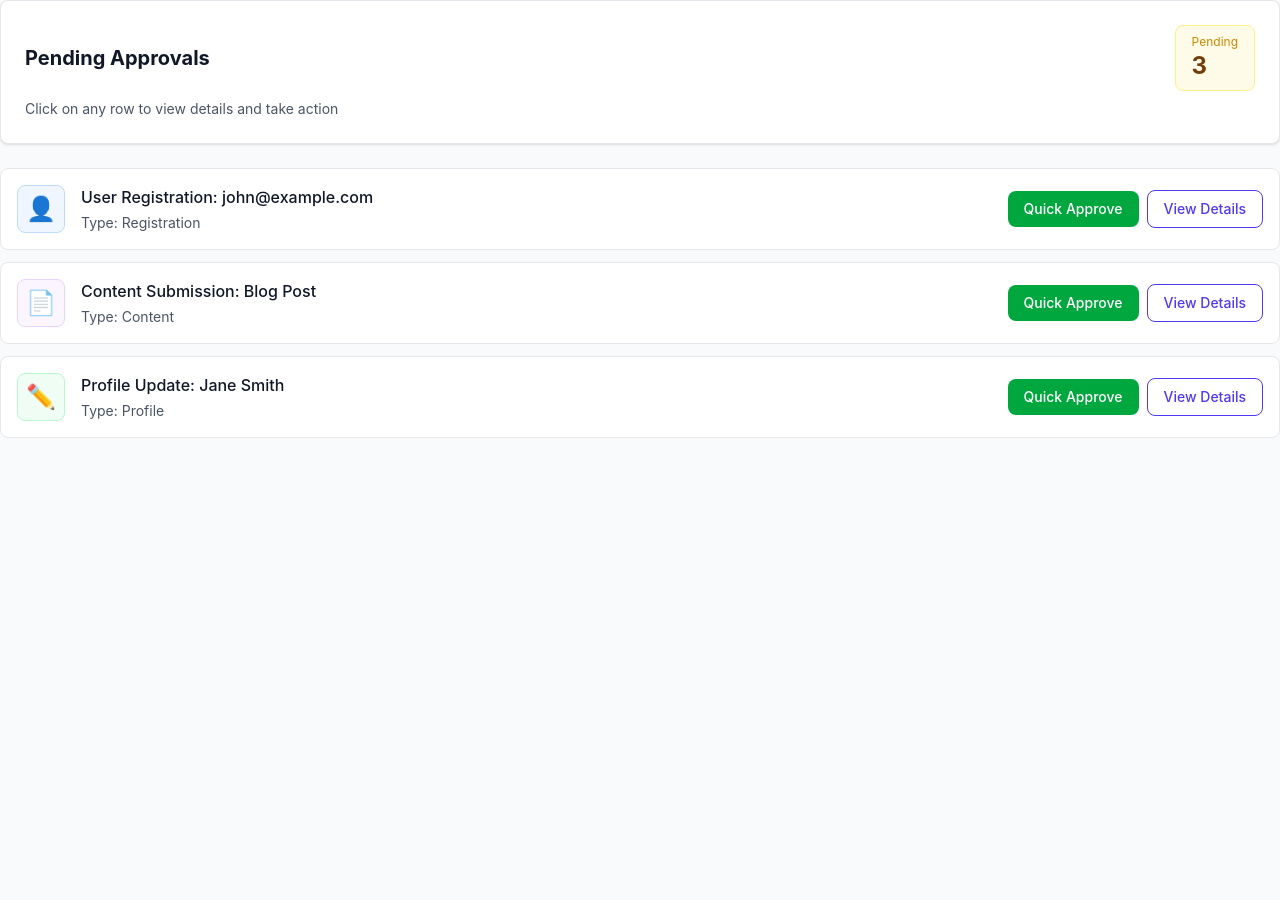
Test: Desafio 6: Problemas de Propagação de Eventos Aninhados › deve abrir o modal correto para linhas diferentes
This screenshot has width=1280, height=900.
Note: Clicar na primeira linha
Click the element with test id "approval-row-1" at (640, 209), box [0,168,1279,250]
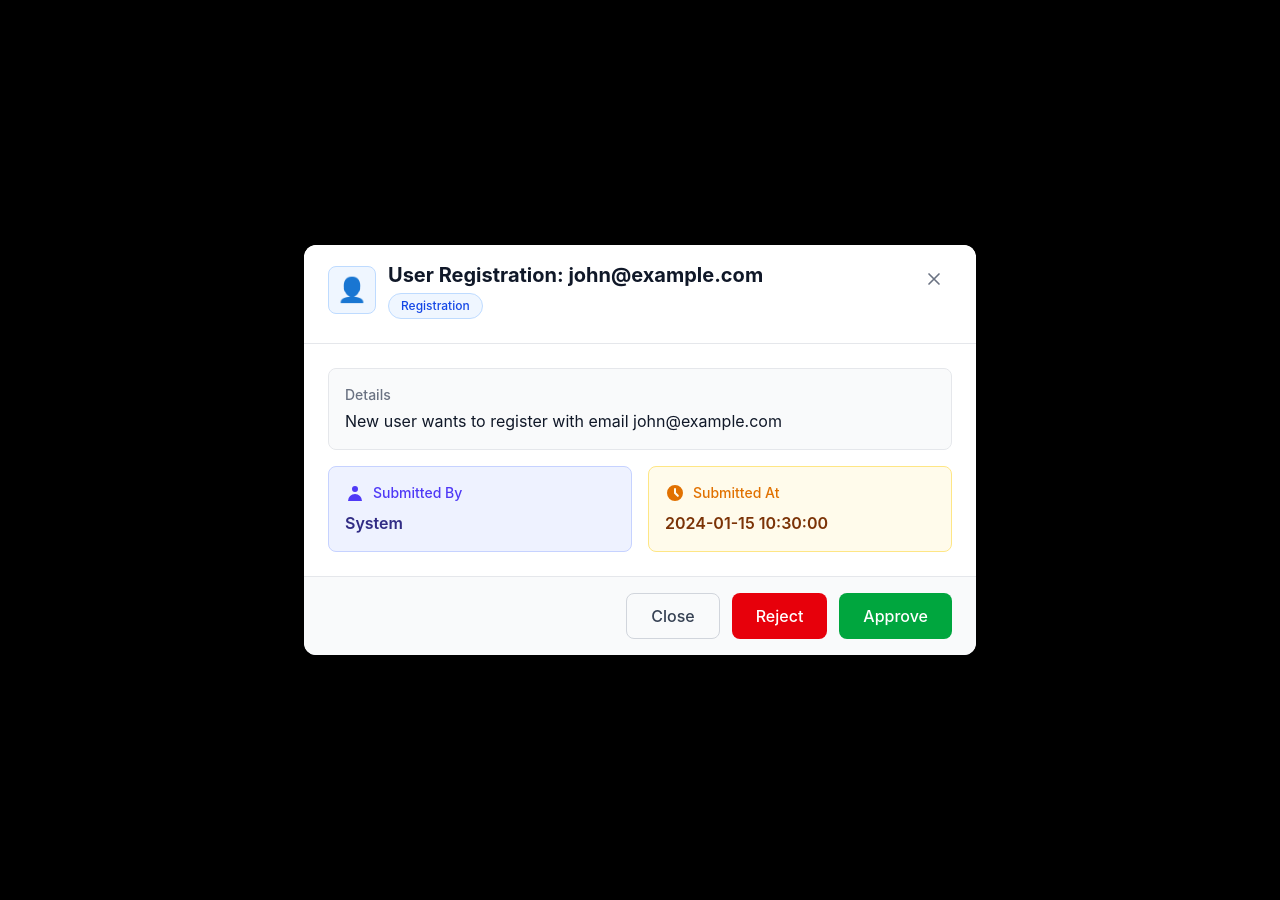
Now the heading with test id "modal-title" reads "User Registration: john@example.com", box [388,263,763,287]
Note: Fechar o modal
Click the button with test id "modal-close-btn" at (673, 616), box [626,593,720,639]
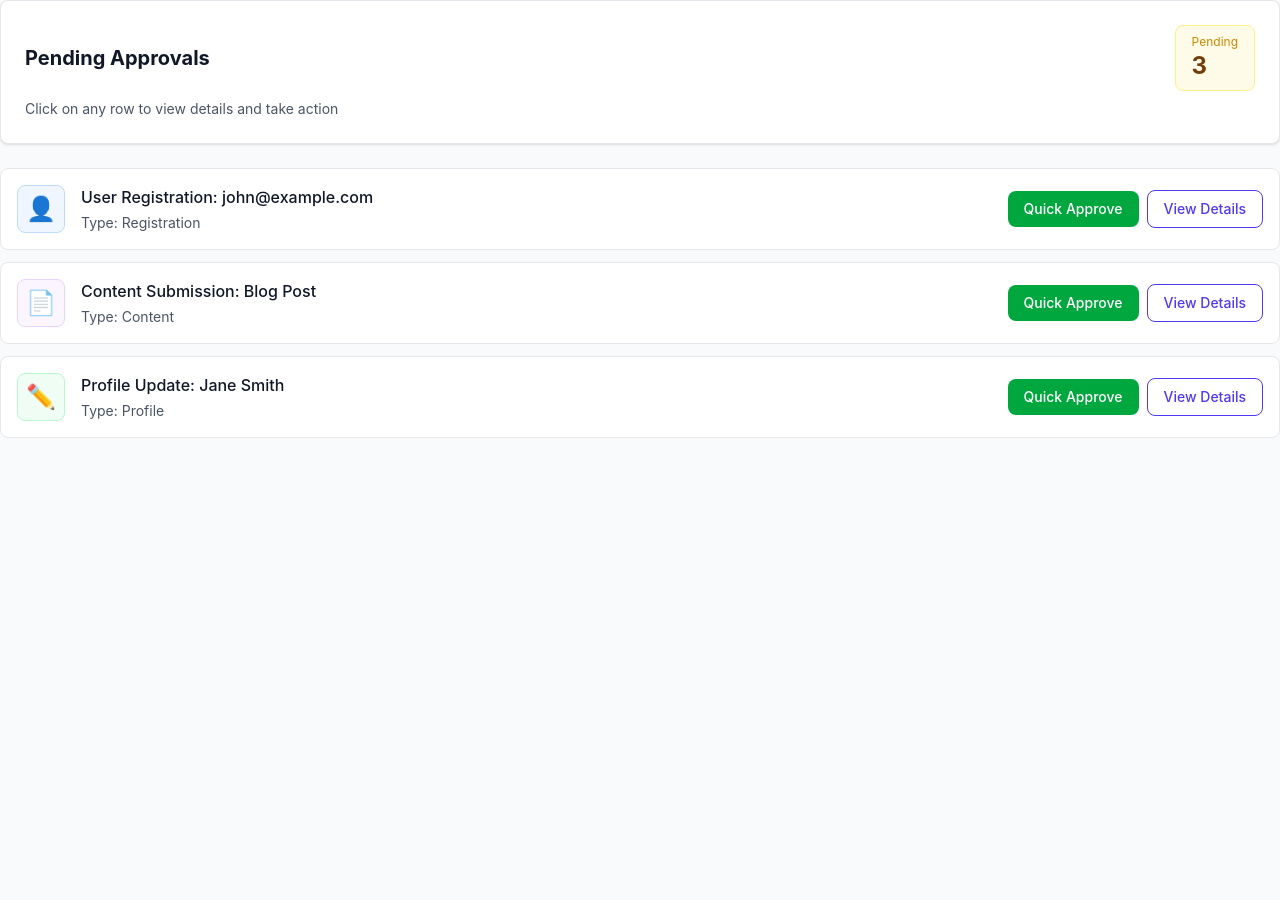
Note: Clicar na segunda linha
Click the element with test id "approval-row-2" at (640, 303), box [0,262,1279,344]
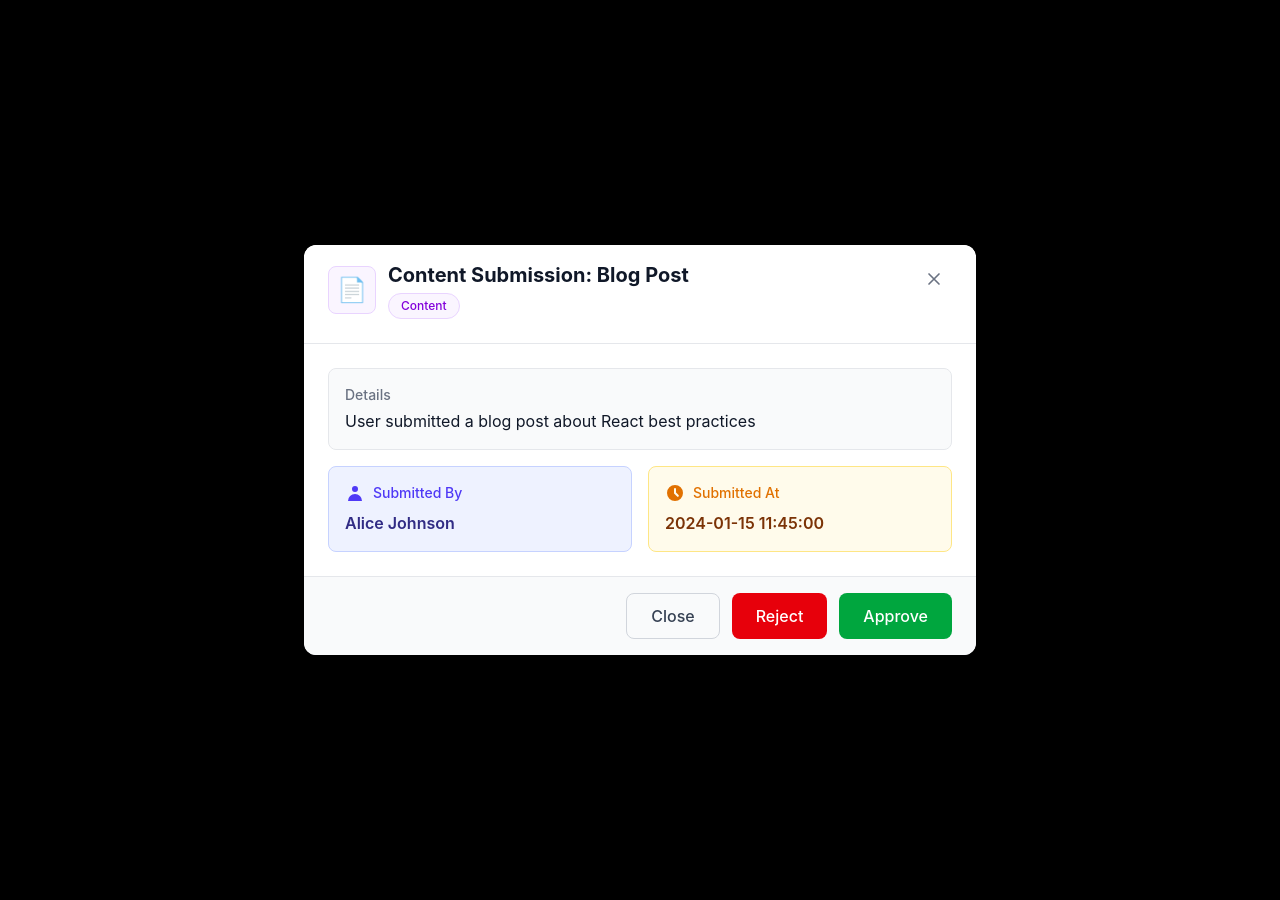
Now the heading with test id "modal-title" reads "Content Submission: Blog Post", box [388,263,689,287]
